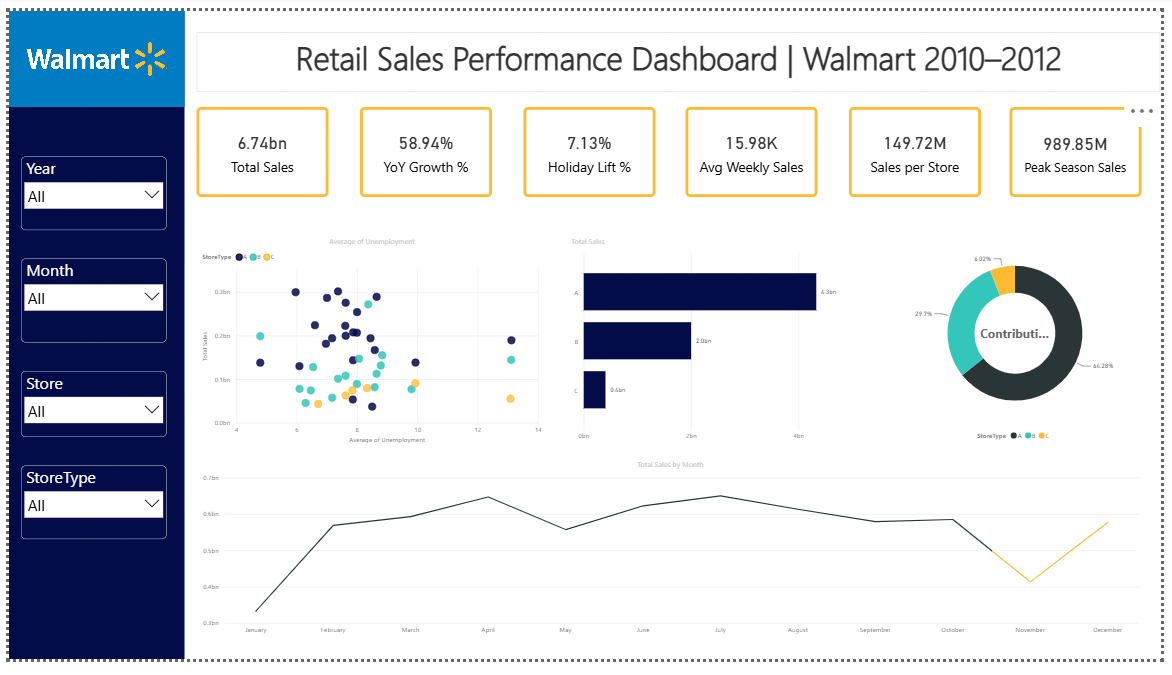

The page's visual inventory and layout, read from the dashboard file:
{"tool":"powerbi","page":{"name":"OverView","canvas":[1920,1080],"ordinal":0},"visuals":[{"type":"shape","box":[0,0,292.5,1080],"z":0},{"type":"card","fields":{"Values":["_Measures.Total Sales"]},"box":[312.5,160,220,150],"z":1000},{"type":"card","fields":{"Values":["_Measures.Avg Weekly Sales"]},"box":[1128.5,160.5,220,150],"z":2000},{"type":"card","fields":{"Values":["_Measures.Holiday Lift %"]},"box":[856.5,160.5,220,150],"z":3000},{"type":"card","fields":{"Values":["_Measures.Sales per Store"]},"box":[1400.5,160.5,220,150],"z":4000},{"type":"barChart","title":"Total Sales","fields":{"Category":["Walmart_Sales.StoreType"],"Y":["_Measures.Total Sales"]},"box":[932.5,375,487.5,350],"z":5000},{"type":"donutChart","fields":{"Category":["Walmart_Sales.StoreType"],"Y":["_Measures.Total Sales"]},"box":[1465,375,422.5,350],"z":6000},{"type":"card","fields":{"Values":["_Measures.Peak Season Sales"]},"box":[1667.5,160,220,150],"z":7000},{"type":"slicer","fields":{"Values":["Walmart_Sales.Store"]},"box":[20,599.7,242.5,110],"z":8000},{"type":"slicer","fields":{"Values":["Walmart_Sales.StoreType"]},"box":[20,757.5,242.5,122.5],"z":9000},{"type":"slicer","fields":{"Values":["Calendar.Date.Variation.Date Hierarchy.Month"]},"box":[20,411.9,242.5,140],"z":10000},{"type":"scatterChart","title":"Average of Unemployment","fields":{"X":["Avg(Walmart_Sales.Unemployment)"],"Y":["_Measures.Total Sales"],"Series":["Walmart_Sales.StoreType"],"Category":["Walmart_Sales.Store"]},"box":[317.5,375,575,350],"z":11000},{"type":"image","box":[0,0,292.7,160],"z":12000},{"type":"lineChart","fields":{"Category":["Calendar.Date.Variation.Date Hierarchy.Year","Calendar.Date.Variation.Date Hierarchy.Quarter","Calendar.Date.Variation.Date Hierarchy.Month","Calendar.Date.Variation.Date Hierarchy.Day"],"Y":["_Measures.Total Sales"]},"box":[317.5,747.5,1570,300],"z":13000},{"type":"card","fields":{"Values":["_Measures.YoY Growth %"]},"box":[584.5,160,220,150],"z":14000},{"type":"slicer","fields":{"Values":["Walmart_Sales.Year"]},"box":[20,241.7,242.5,122.5],"z":15000},{"type":"textbox","box":[312,34,1608,100],"z":16000}]}

Visuals, with their boxes in screenshot pixels (x1, y1, x2, y2), scaled from the page's 1920x1080 canvas onto the 1172x675 screenshot:
shape: [0,0,179,674]
card - _Measures.Total Sales: [191,100,325,194]
card - _Measures.Avg Weekly Sales: [689,100,823,194]
card - _Measures.Holiday Lift %: [523,100,657,194]
card - _Measures.Sales per Store: [855,100,989,194]
"Total Sales" barChart: [569,234,867,453]
donutChart - Walmart_Sales.StoreType x _Measures.Total Sales: [894,234,1152,453]
card - _Measures.Peak Season Sales: [1018,100,1152,194]
slicer - Walmart_Sales.Store: [12,375,160,444]
slicer - Walmart_Sales.StoreType: [12,473,160,550]
slicer - Calendar.Date.Variation.Date Hierarchy.Month: [12,257,160,345]
"Average of Unemployment" scatterChart: [194,234,545,453]
image: [0,0,179,100]
lineChart - Calendar.Date.Variation.Date Hierarchy.Year x Calendar.Date.Variation.Date Hierarchy.Quarter: [194,467,1152,655]
card - _Measures.YoY Growth %: [357,100,491,194]
slicer - Walmart_Sales.Year: [12,151,160,228]
textbox: [190,21,1171,84]
